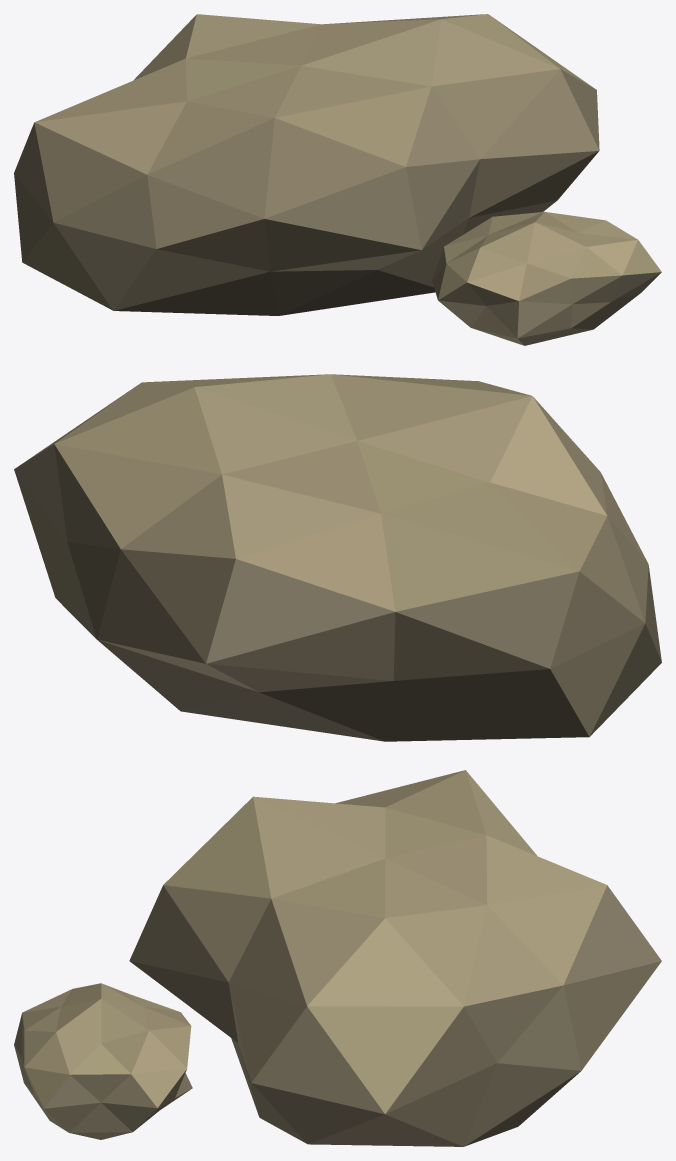
File: sand.glb
3 views of the same model, one above another, from view 1: azimuth 30°, elevation 25°; view 2: azimuth 150°, elevation 25°; view 3: azimuth 270°, elevation 25° (orthographic). The views are drawn at different scales.
Visible parts, largest first — view 1: rock_sand_solid; view 2: rock_sand_solid; view 3: rock_sand_solid.
Part boxes in pixels (x1=…): rock_sand_solid: x1=14, y1=14, x2=661, y2=345; rock_sand_solid: x1=14, y1=374, x2=661, y2=741; rock_sand_solid: x1=14, y1=770, x2=661, y2=1146.
Size of the model in its own units: 2.55 by 1.05 by 2.48.
